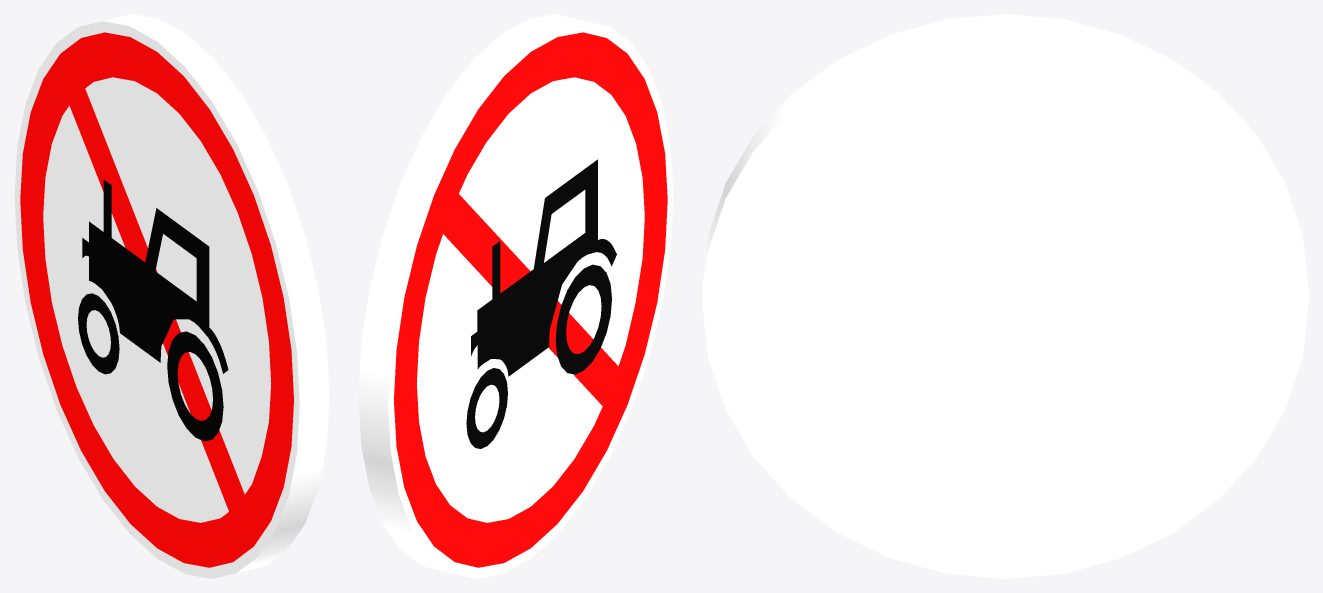
File: No_Tractor_Entry.glb
3 renders of one model, left to right at view 1: azimuth 30°, elevation 25°; view 2: azimuth 150°, elevation 25°; view 3: azimuth 270°, elevation 25°, orthographic. The views are drawn at different scales.
Parts seen in each view (by area): view 1: No_Tractor_Entry; view 2: No_Tractor_Entry; view 3: No_Tractor_Entry.
Boxes of the visible parts, bbox=[...] form: No_Tractor_Entry: bbox=[14, 14, 329, 578]; No_Tractor_Entry: bbox=[358, 14, 673, 578]; No_Tractor_Entry: bbox=[702, 14, 1308, 578].
Bounding box in the file's own units: 0.075 × 1 × 1.
